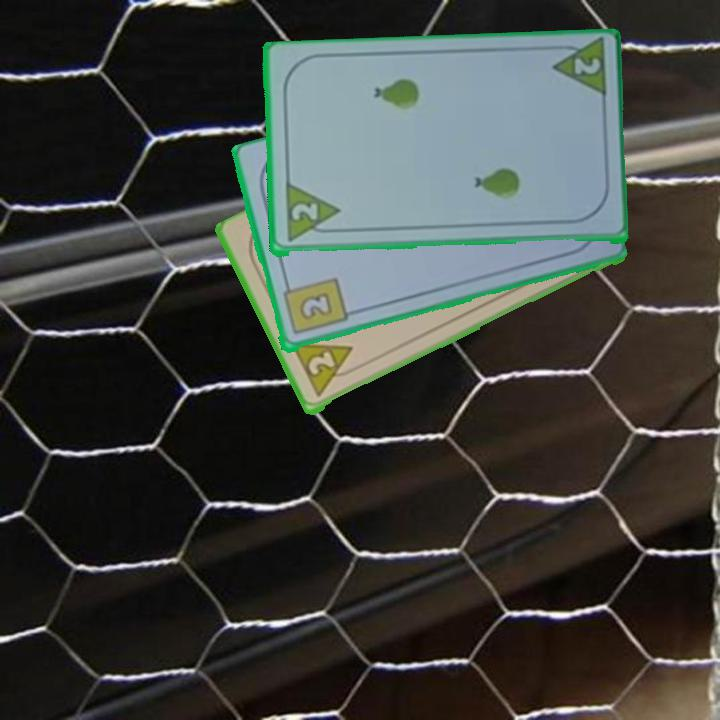2b: (279, 275, 350, 339)
2p: (289, 340, 363, 401), (546, 38, 609, 103), (287, 200, 320, 224)
